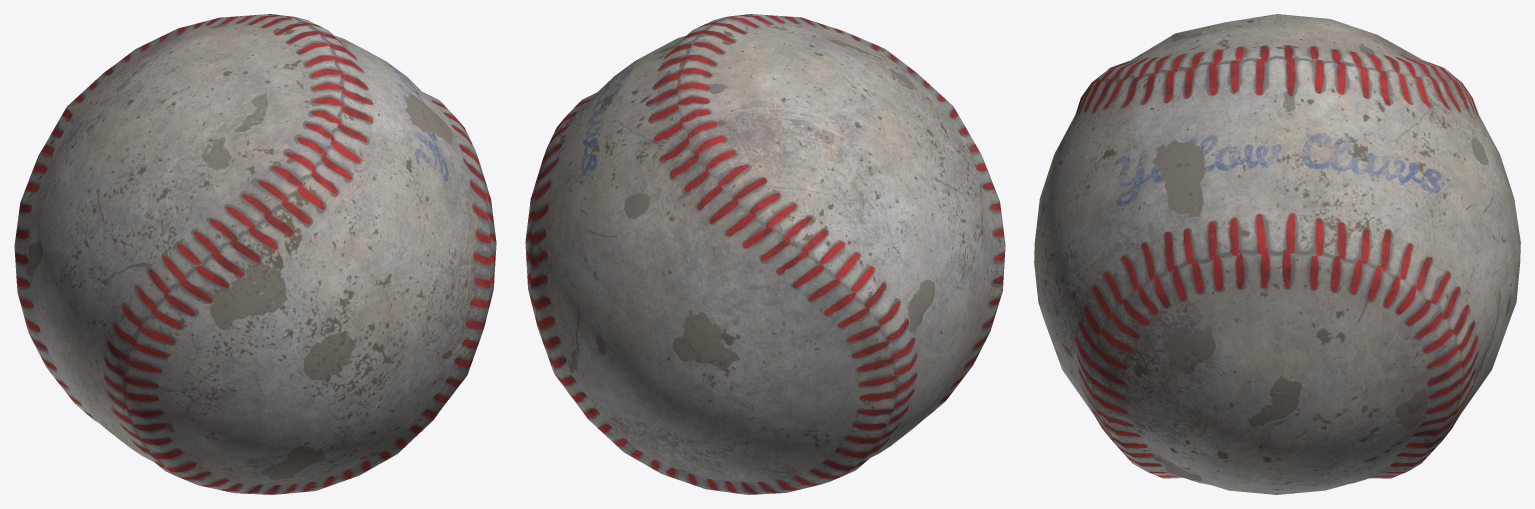
The model's file is worn_baseball_ball.obj.
3 renders of one model, left to right at view 1: azimuth 30°, elevation 25°; view 2: azimuth 150°, elevation 25°; view 3: azimuth 270°, elevation 25°, orthographic. The views are drawn at different scales.
Parts seen in each view (by area): view 1: polySurface5_lambert1_0; view 2: polySurface5_lambert1_0; view 3: polySurface5_lambert1_0.
Boxes of the visible parts, x1,y1,x2,y2 form: polySurface5_lambert1_0: [14, 14, 496, 494]; polySurface5_lambert1_0: [525, 14, 1005, 494]; polySurface5_lambert1_0: [1034, 14, 1520, 494].
Bounding box in the file's own units: 0.812 × 0.8223 × 0.8184.
Materials: 1 (1 with a texture image).
